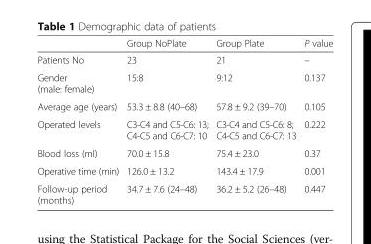table: (36, 37, 332, 205)
table column: (122, 37, 211, 205), (211, 37, 299, 205), (36, 37, 122, 205), (299, 37, 332, 205)
table column header: (36, 37, 332, 51)
table row: (36, 68, 332, 97), (36, 115, 332, 144), (36, 179, 332, 205), (36, 97, 332, 115), (36, 161, 332, 179), (36, 51, 332, 68), (36, 144, 332, 161), (36, 37, 332, 51)
